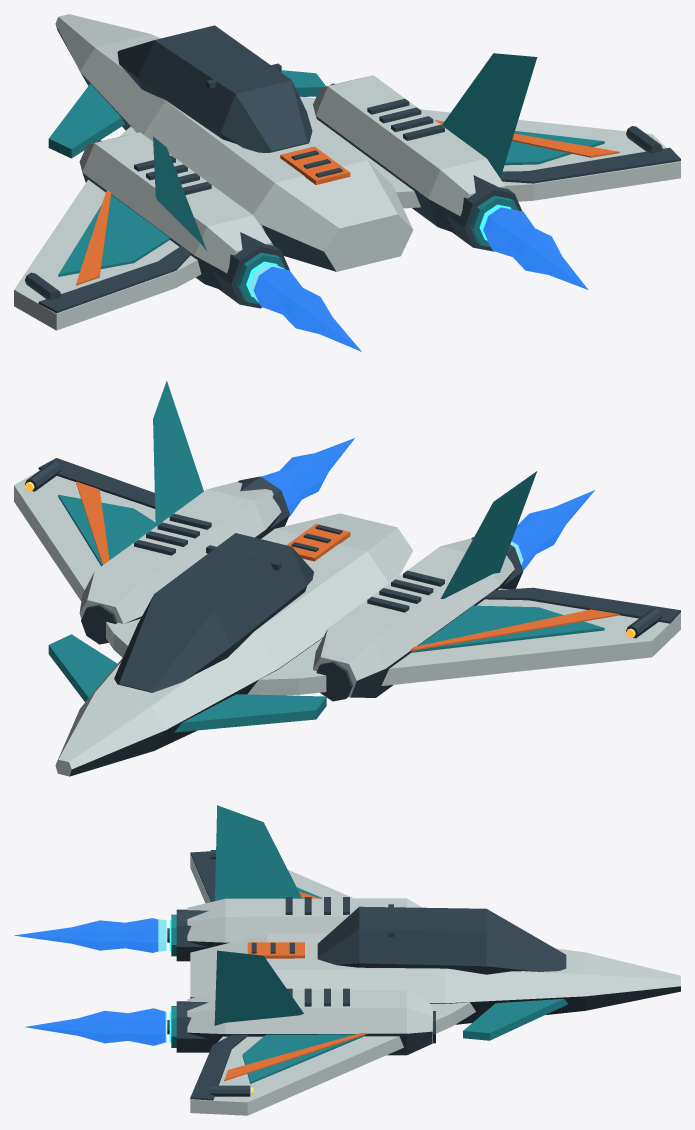
The model's file is kestrel-07.glb.
The picture shows the model from 3 angles, top to bottom: view 1: azimuth 30°, elevation 25°; view 2: azimuth 150°, elevation 25°; view 3: azimuth 270°, elevation 25°; orthographic projection. The views are drawn at different scales.
Visible parts, largest first — view 1: 01 • Fuselagem facetada, 02 • Moldura da cabine, Bombordo • nacela, Boreste • nacela, Boreste • asa delta, Bombordo • asa delta, Bombordo • estabilizador vertical, Bombordo • jato facetado, Boreste • painel superior, Boreste • jato facetado, Boreste • canard, Boreste • borda escura (+13 smaller); view 2: 01 • Fuselagem facetada, 02 • Moldura da cabine, Boreste • asa delta, Boreste • nacela, Bombordo • nacela, Bombordo • asa delta, Bombordo • estabilizador vertical, Boreste • estabilizador vertical, Boreste • painel superior, Boreste • canard, Bombordo • painel superior, Bombordo • jato facetado (+10 smaller); view 3: 01 • Fuselagem facetada, 02 • Moldura da cabine, Bombordo • nacela, Bombordo • asa delta, Boreste • nacela, Boreste • estabilizador vertical, Bombordo • estabilizador vertical, Bombordo • jato facetado, Boreste • jato facetado, Bombordo • painel superior, Bombordo • canard, Bombordo • borda escura (+7 smaller).
Boxes of the visible parts, <box> form: 01 • Fuselagem facetada: <box>55,14,412,271</box>; 02 • Moldura da cabine: <box>117,25,312,152</box>; Bombordo • nacela: <box>313,75,506,233</box>; Boreste • nacela: <box>79,132,273,290</box>; Boreste • asa delta: <box>14,126,264,330</box>; Bombordo • asa delta: <box>300,96,680,208</box>; Bombordo • estabilizador vertical: <box>442,53,537,178</box>; Bombordo • jato facetado: <box>483,207,588,289</box>; Boreste • painel superior: <box>58,195,169,276</box>; Boreste • jato facetado: <box>253,267,361,351</box>; Boreste • canard: <box>48,84,124,158</box>; Boreste • borda escura: <box>38,246,190,313</box>; 01 • Fuselagem facetada: <box>55,513,413,776</box>; 02 • Moldura da cabine: <box>114,533,313,692</box>; Boreste • asa delta: <box>247,588,680,695</box>; Boreste • nacela: <box>313,538,514,697</box>; Bombordo • nacela: <box>79,482,281,623</box>; Bombordo • asa delta: <box>14,471,155,657</box>; Bombordo • estabilizador vertical: <box>153,380,203,526</box>; Boreste • estabilizador vertical: <box>440,471,536,598</box>; Boreste • painel superior: <box>411,605,604,652</box>; Boreste • canard: <box>174,694,326,732</box>; Bombordo • painel superior: <box>58,494,155,566</box>; Bombordo • jato facetado: <box>261,438,354,516</box>; 01 • Fuselagem facetada: <box>190,933,680,1024</box>; 02 • Moldura da cabine: <box>317,906,566,974</box>; Bombordo • nacela: <box>187,990,432,1055</box>; Bombordo • asa delta: <box>190,1002,475,1115</box>; Boreste • nacela: <box>187,898,421,947</box>; Boreste • estabilizador vertical: <box>215,805,302,900</box>; Bombordo • estabilizador vertical: <box>214,950,303,1025</box>; Bombordo • jato facetado: <box>25,1008,165,1045</box>; Boreste • jato facetado: <box>14,918,158,952</box>; Bombordo • painel superior: <box>242,1034,364,1083</box>; Bombordo • canard: <box>463,998,568,1040</box>; Bombordo • borda escura: <box>190,1034,247,1100</box>.
Bounding box in the file's own units: 9.3 × 2.23 × 10.47.
